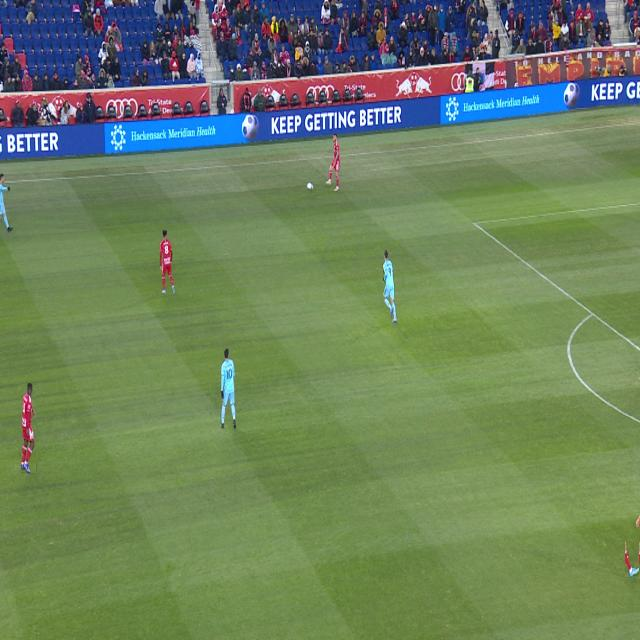football: (308, 183, 312, 190)
player: (21, 383, 36, 473), (220, 349, 236, 428), (383, 250, 397, 322), (160, 230, 175, 294), (325, 133, 340, 191), (0, 174, 13, 232), (626, 540, 639, 577), (636, 514, 640, 528)
